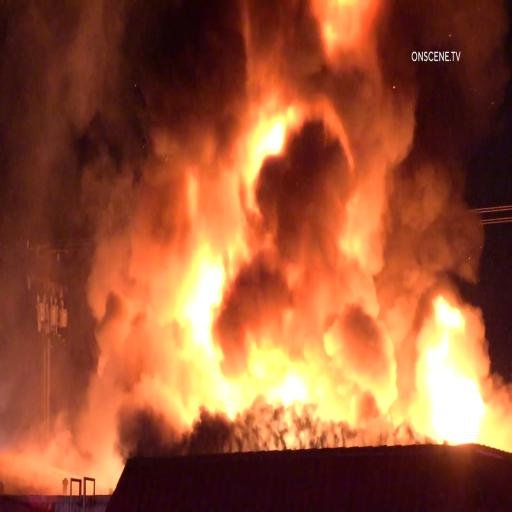fire: (428, 316, 480, 439), (274, 355, 318, 422)
smoke: (276, 140, 343, 263)
